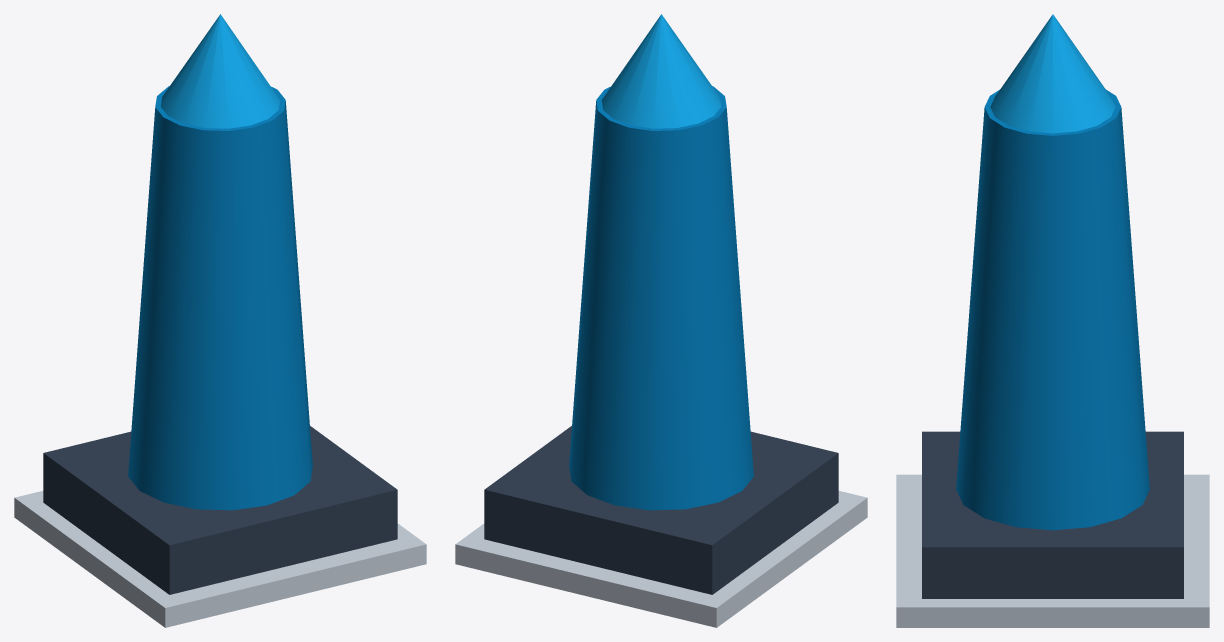
The model's file is bld_c3_cell_19.glb.
The picture shows the model from 3 angles, left to right: view 1: azimuth 30°, elevation 25°; view 2: azimuth 150°, elevation 25°; view 3: azimuth 270°, elevation 25°; orthographic projection. The views are drawn at different scales.
Visible parts, largest first — view 1: Bld_C3_Cell_19_BespokeLandmark; view 2: Bld_C3_Cell_19_BespokeLandmark; view 3: Bld_C3_Cell_19_BespokeLandmark.
Boxes of the visible parts, x1=… form: Bld_C3_Cell_19_BespokeLandmark: x1=14, y1=14, x2=426, y2=627; Bld_C3_Cell_19_BespokeLandmark: x1=455, y1=14, x2=867, y2=627; Bld_C3_Cell_19_BespokeLandmark: x1=896, y1=14, x2=1209, y2=627.
Bounding box in the file's own units: 0.55 × 1.06 × 0.55.
